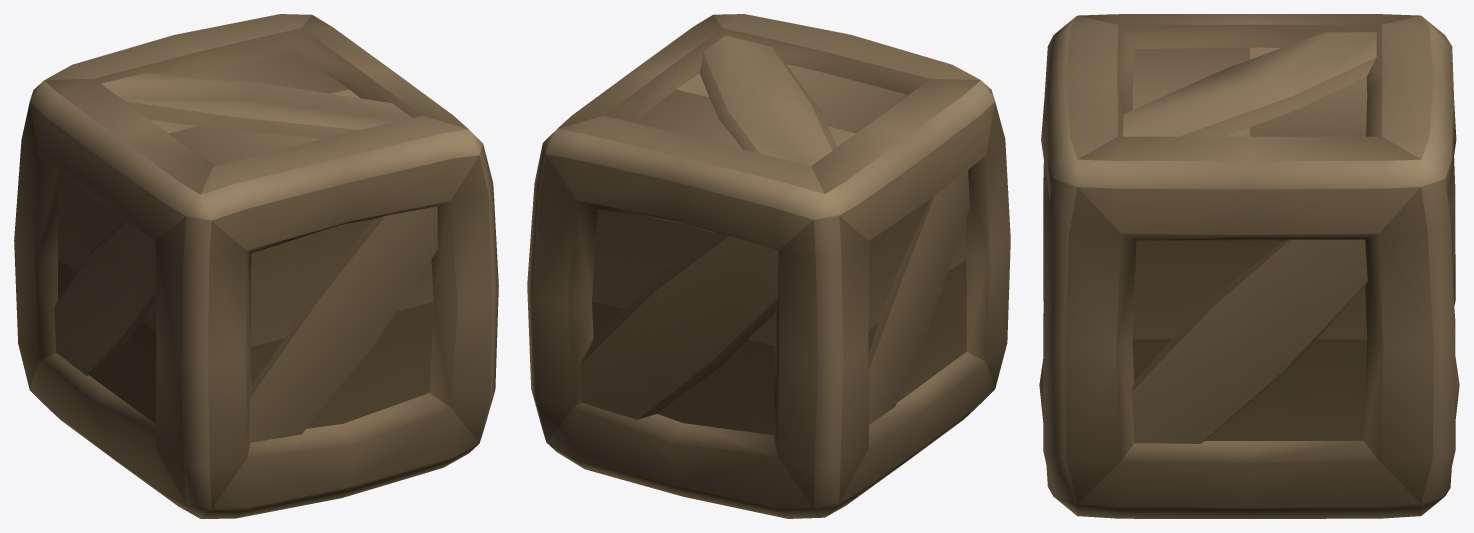
File: box_small_2.fbx
3 renders of one model, left to right at view 1: azimuth 30°, elevation 25°; view 2: azimuth 150°, elevation 25°; view 3: azimuth 270°, elevation 25°, orthographic. The views are drawn at different scales.
Parts seen in each view (by area): view 1: box_small_2; view 2: box_small_2; view 3: box_small_2.
Part boxes in pixels (bbox=[...]): box_small_2: bbox=[14, 14, 498, 518]; box_small_2: bbox=[527, 14, 1010, 518]; box_small_2: bbox=[1039, 14, 1459, 518].
Bounding box in the file's own units: 83.73 × 84.04 × 85.47.
